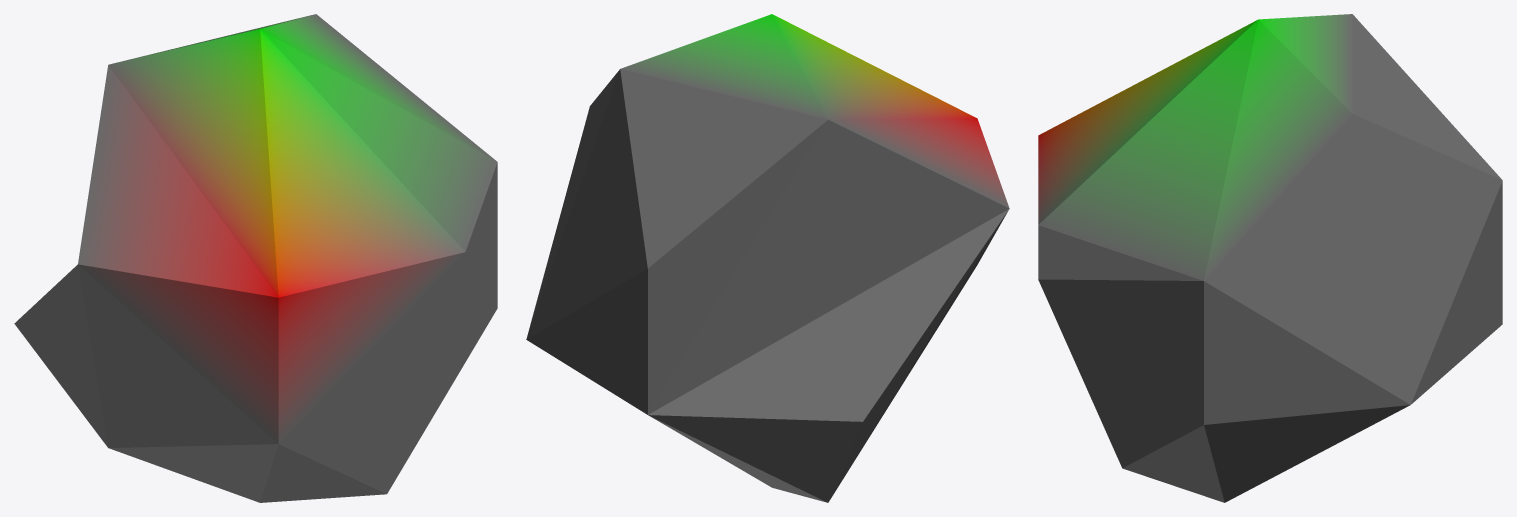
Rendered from re_decimating_conquest_4_before.obj.
3 renders of one model, left to right at view 1: azimuth 30°, elevation 25°; view 2: azimuth 150°, elevation 25°; view 3: azimuth 270°, elevation 25°, orthographic.
Size of the model in its own units: 1.85 by 2 by 1.81.
